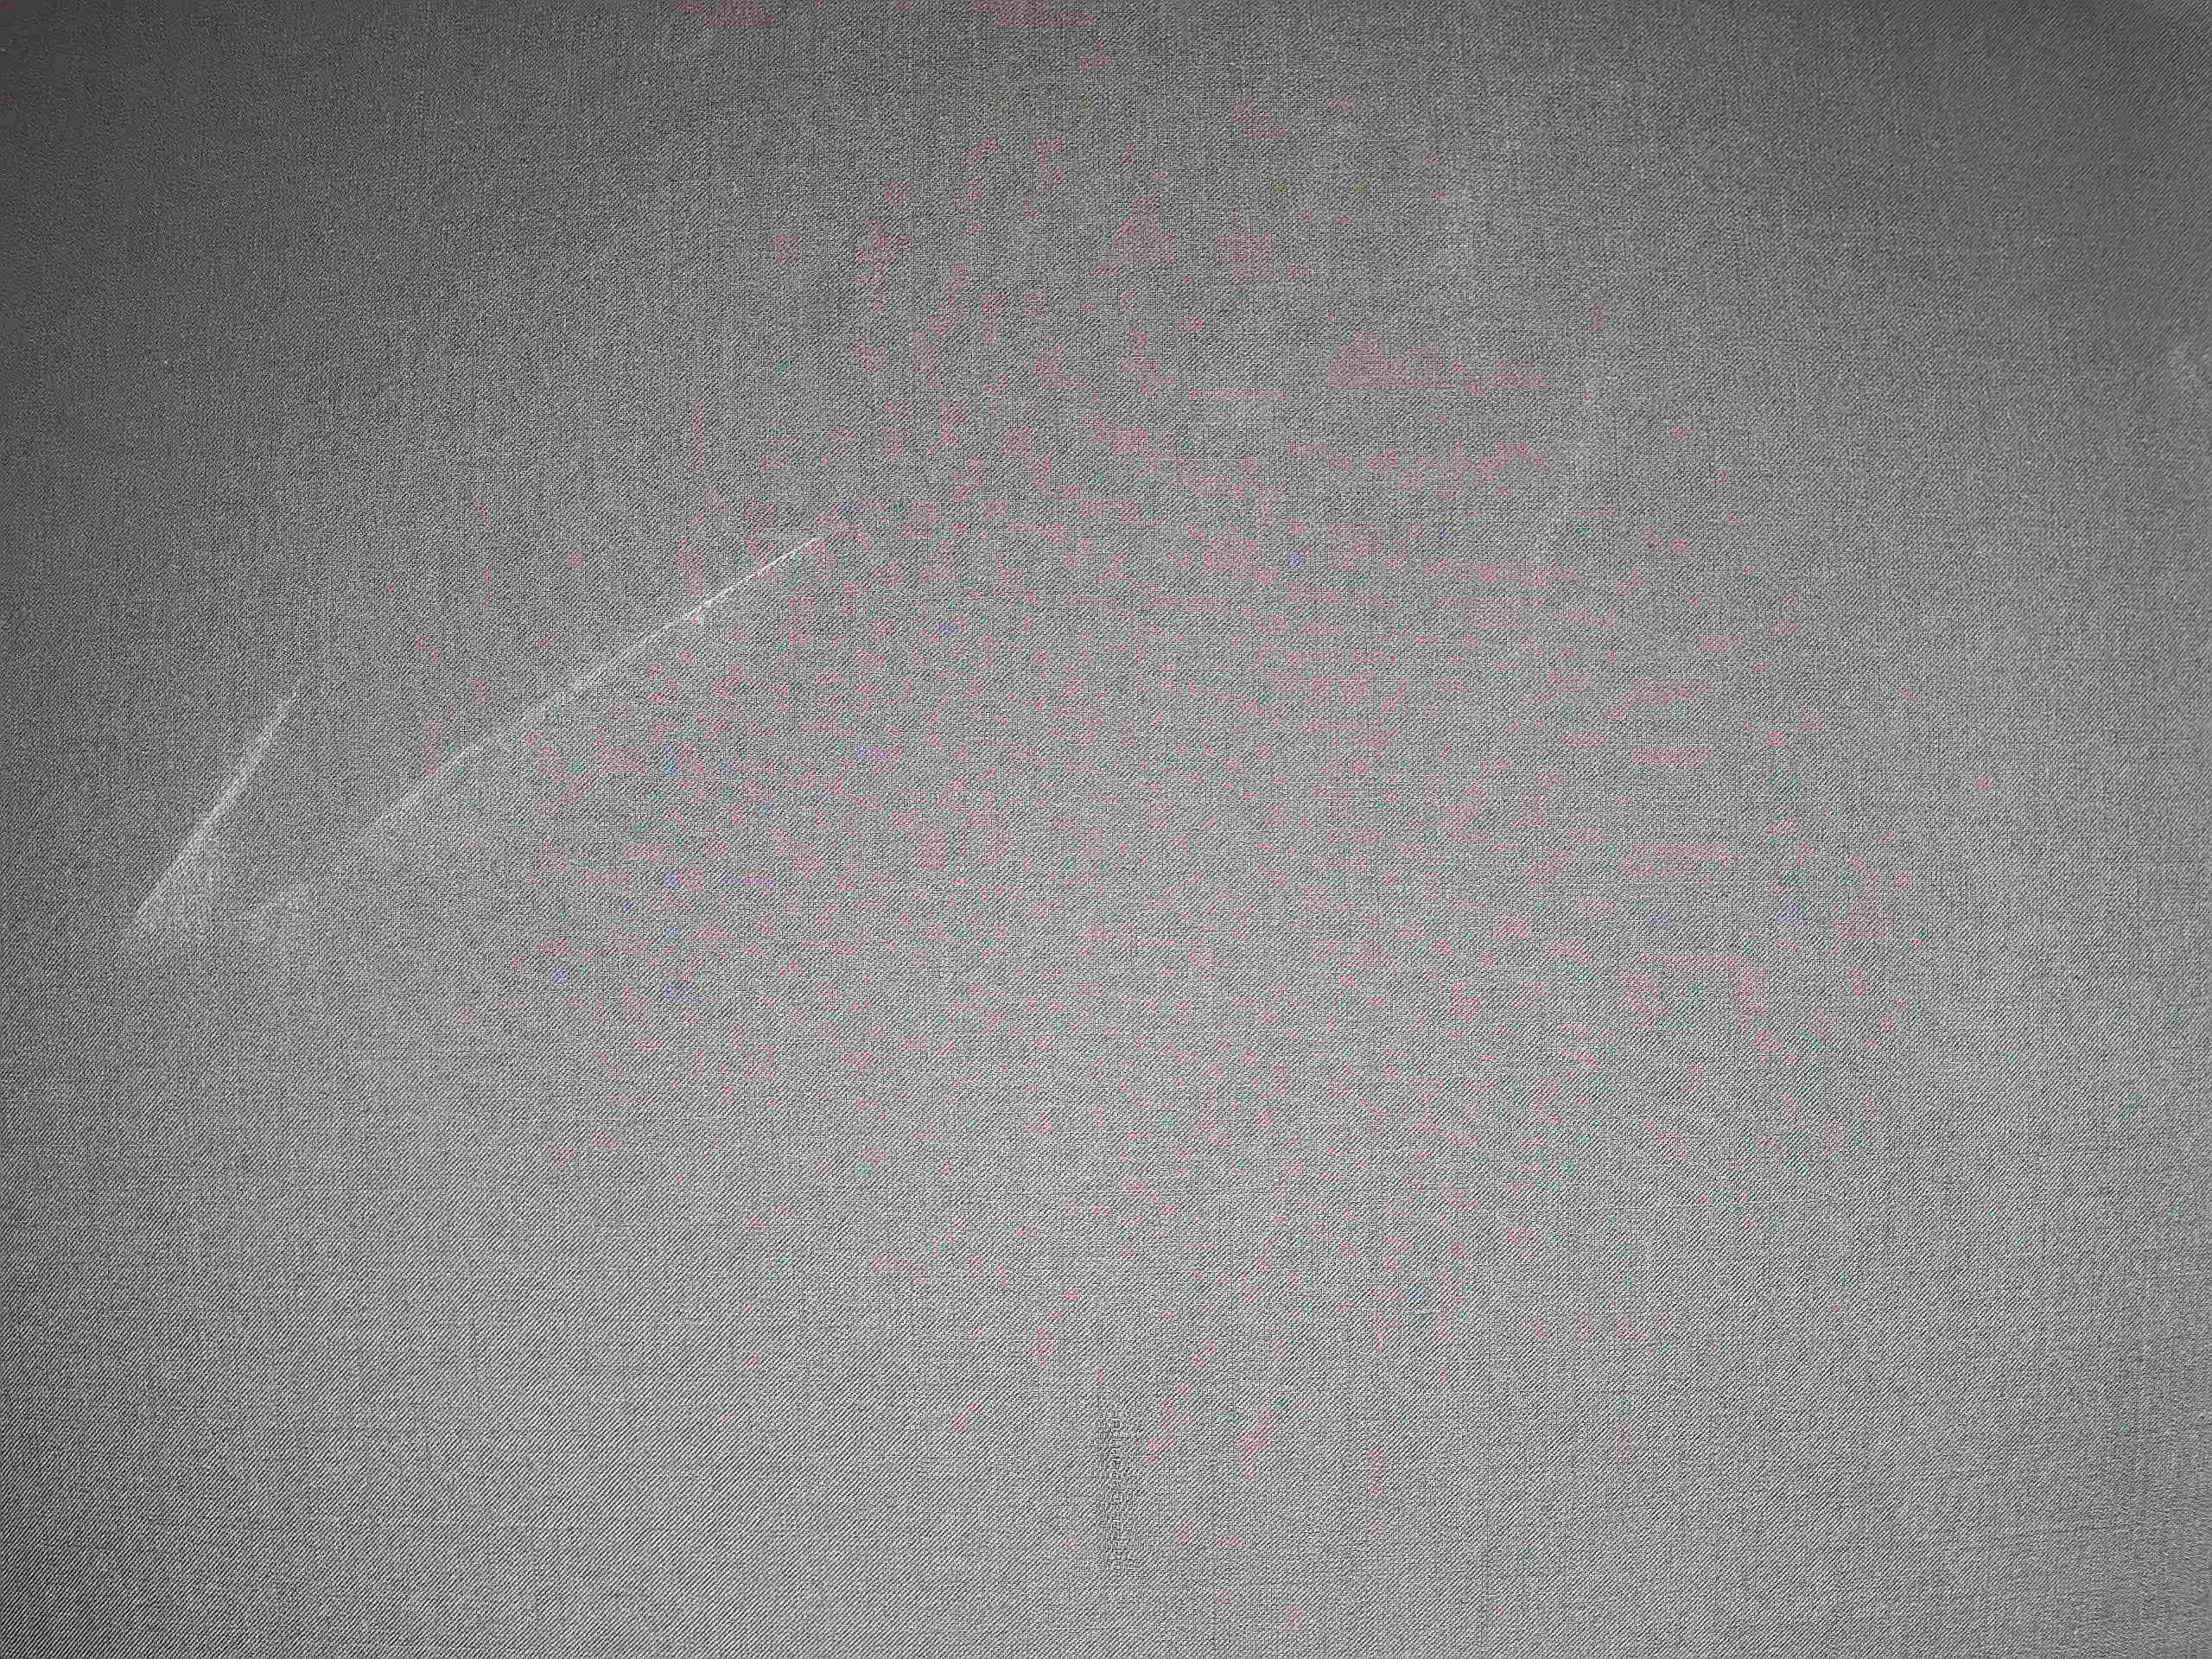filling_floats: (1087, 1377, 1166, 1618)
stain: (106, 511, 841, 967)
